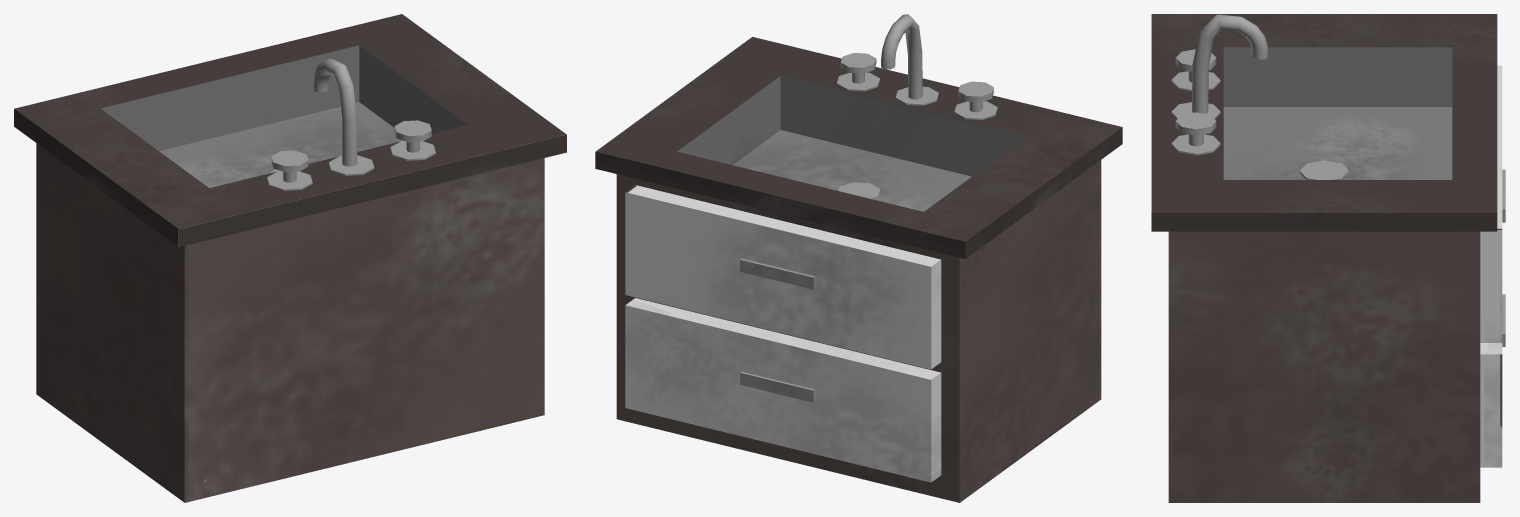
The model's file is pia.glb.
3 views of the same model, side by side, from view 1: azimuth 30°, elevation 25°; view 2: azimuth 150°, elevation 25°; view 3: azimuth 270°, elevation 25° (orthographic). The views are drawn at different scales.
Visible parts, largest first — view 1: Cylinder; view 2: Cylinder; view 3: Cylinder.
Boxes of the visible parts, x1,y1,x2,y2 form: Cylinder: (14,14,566,502); Cylinder: (595,14,1122,502); Cylinder: (1151,14,1505,502).
Size of the model in its own units: 1.51 by 1.4 by 1.14.
Materials: 1 (1 with a texture image).
